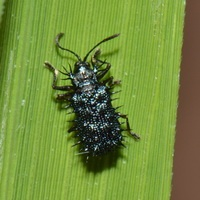insect: (45, 33, 139, 160)
